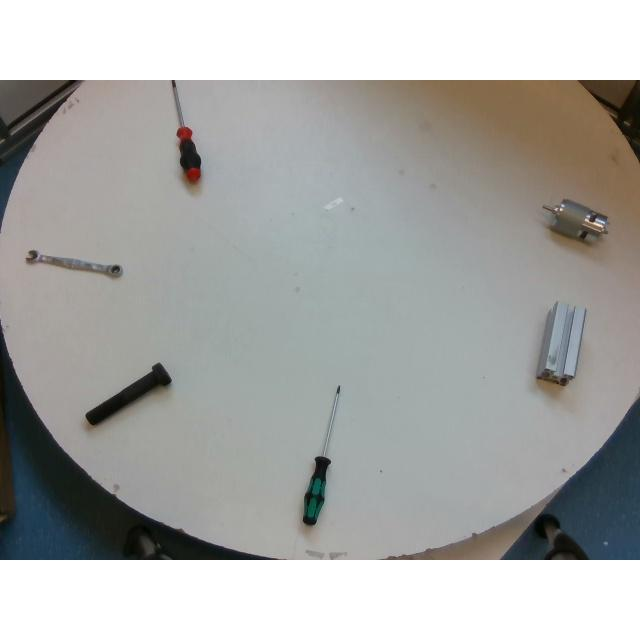M20_100: (85, 362, 171, 426)
Motor2: (544, 198, 608, 242)
S40_40_G: (538, 301, 586, 385)
Screwdriver: (302, 384, 340, 524)
Wrench: (26, 249, 122, 277)
